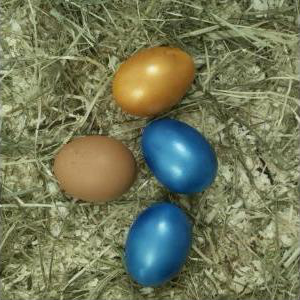egg: (124, 203, 193, 287), (55, 135, 138, 204), (113, 47, 196, 115), (143, 120, 218, 195)
